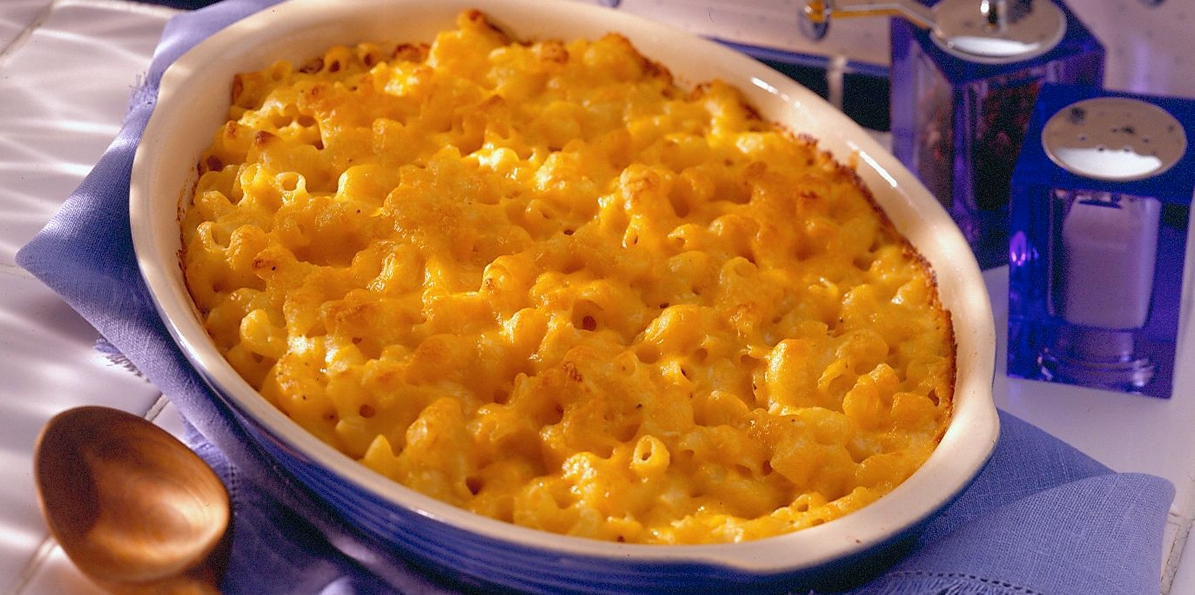macncheese: (237, 77, 1045, 575)
